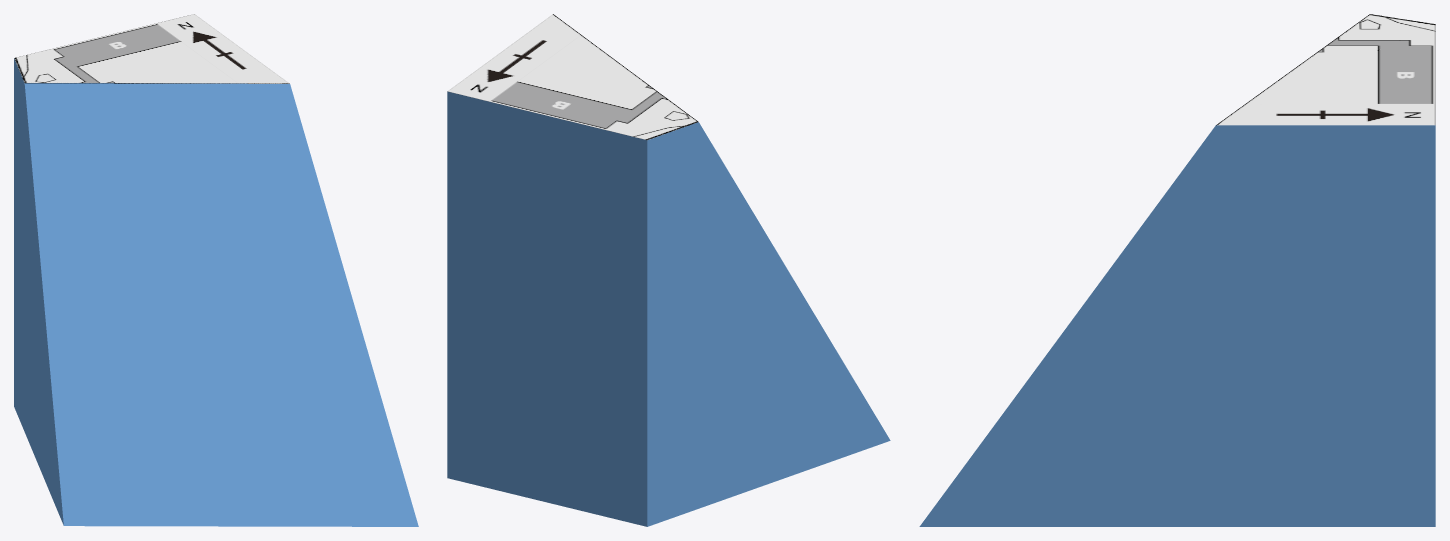
Rendered from Right_B2.glb.
3 views of the same model, side by side, from view 1: azimuth 30°, elevation 25°; view 2: azimuth 150°, elevation 25°; view 3: azimuth 270°, elevation 25° (orthographic). The views are drawn at different scales.
Parts seen in each view (by area): view 1: Right_B2; view 2: Right_B2; view 3: Right_B2.
Boxes of the visible parts, x1,y1,x2,y2 form: Right_B2: (14,14,418,526); Right_B2: (447,14,890,526); Right_B2: (919,14,1435,526).
Bounding box in the file's own units: 2.79 × 3.51 × 4.09.
Materials: 2 (1 with a texture image).
